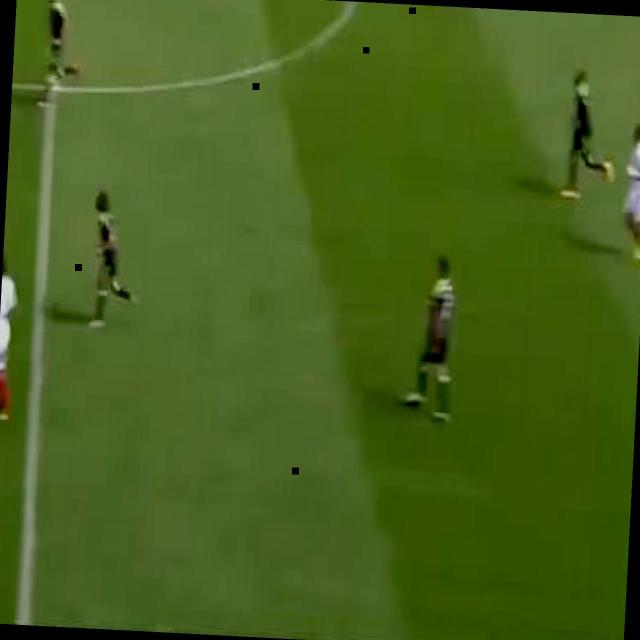player-white: (402, 256, 458, 428), (560, 67, 619, 199), (88, 191, 141, 332), (37, 0, 84, 108), (0, 256, 23, 418), (619, 124, 640, 259)
